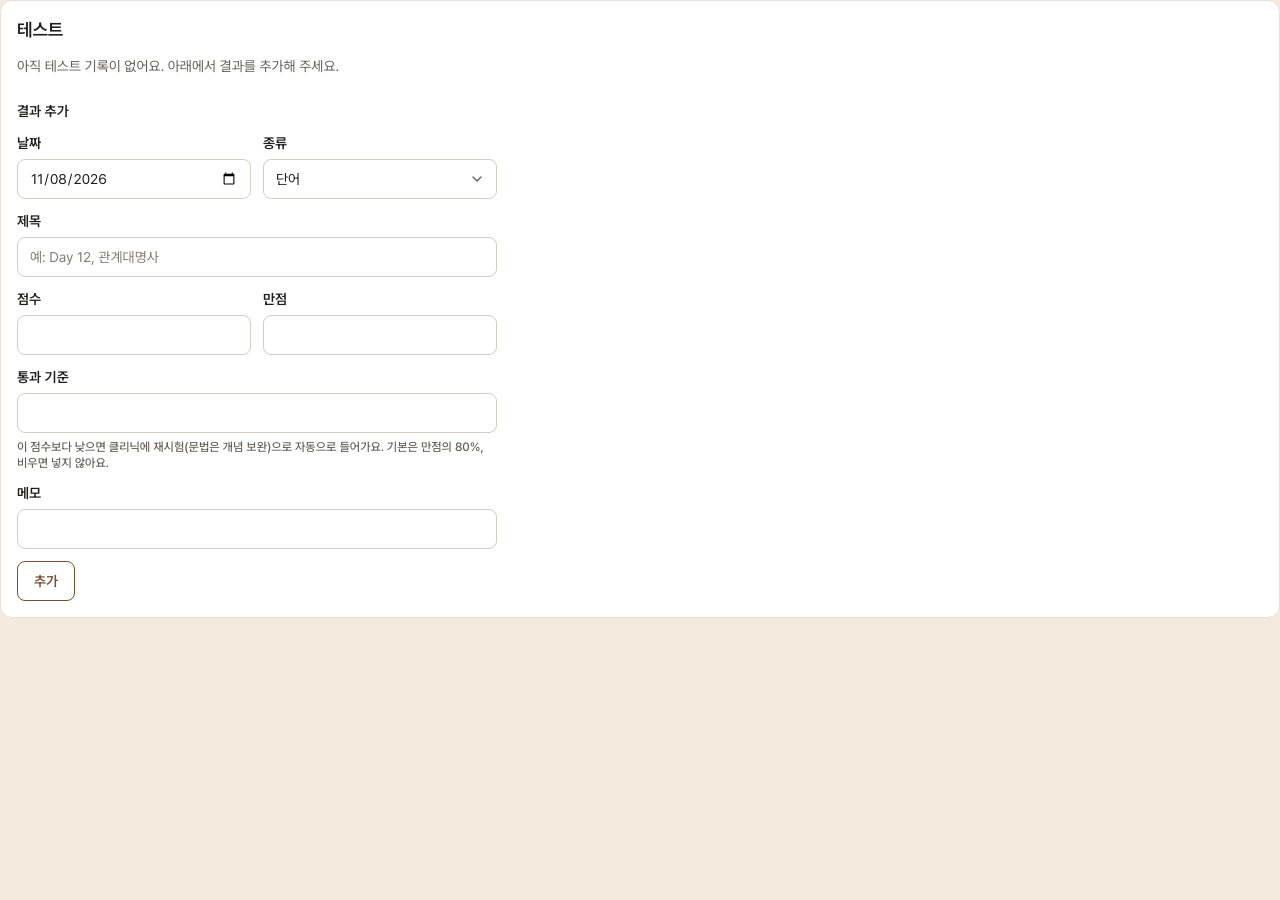
Test case: StudentTestsTab › fills 80% as the pass score until it is changed by hand
Step 1. Type "25" into the field labelled "만점" → (380, 335), box [263, 315, 497, 355]
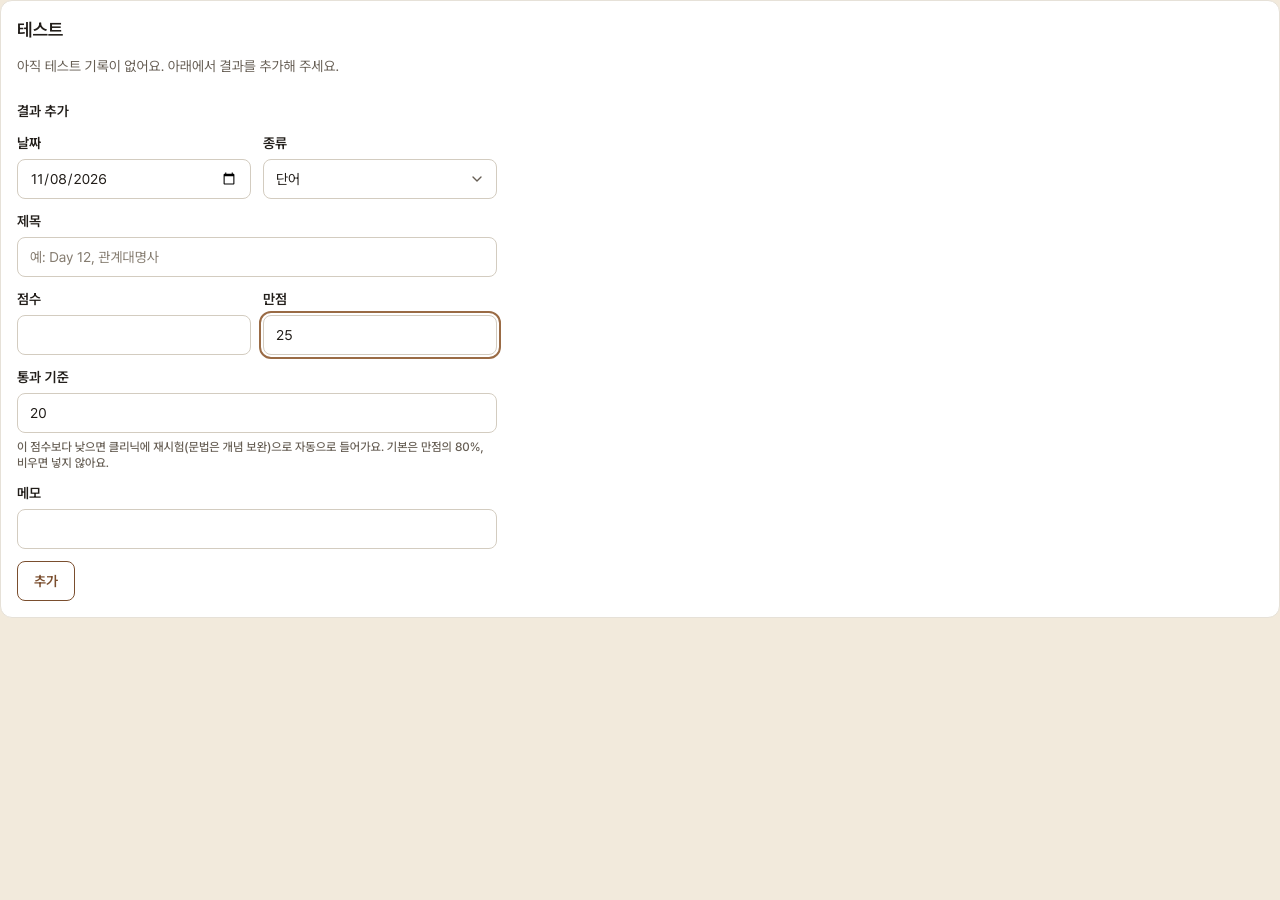
Expected: the field labelled "통과 기준" holds "20"
Step 2. Clear the field labelled "통과 기준" → (257, 413), box [17, 393, 497, 433]
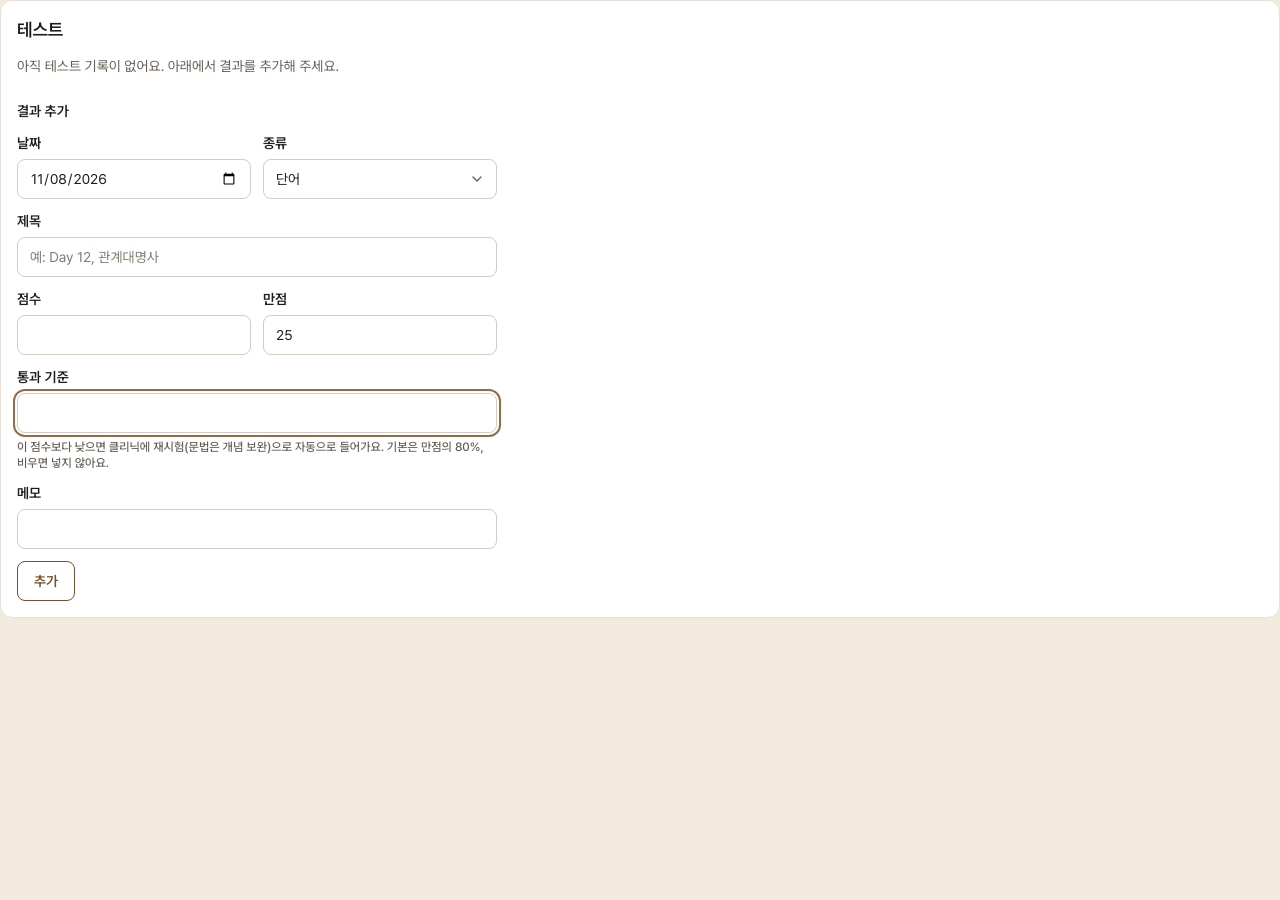
Step 3. Type "0" into the field labelled "만점" → (380, 335), box [263, 315, 497, 355]
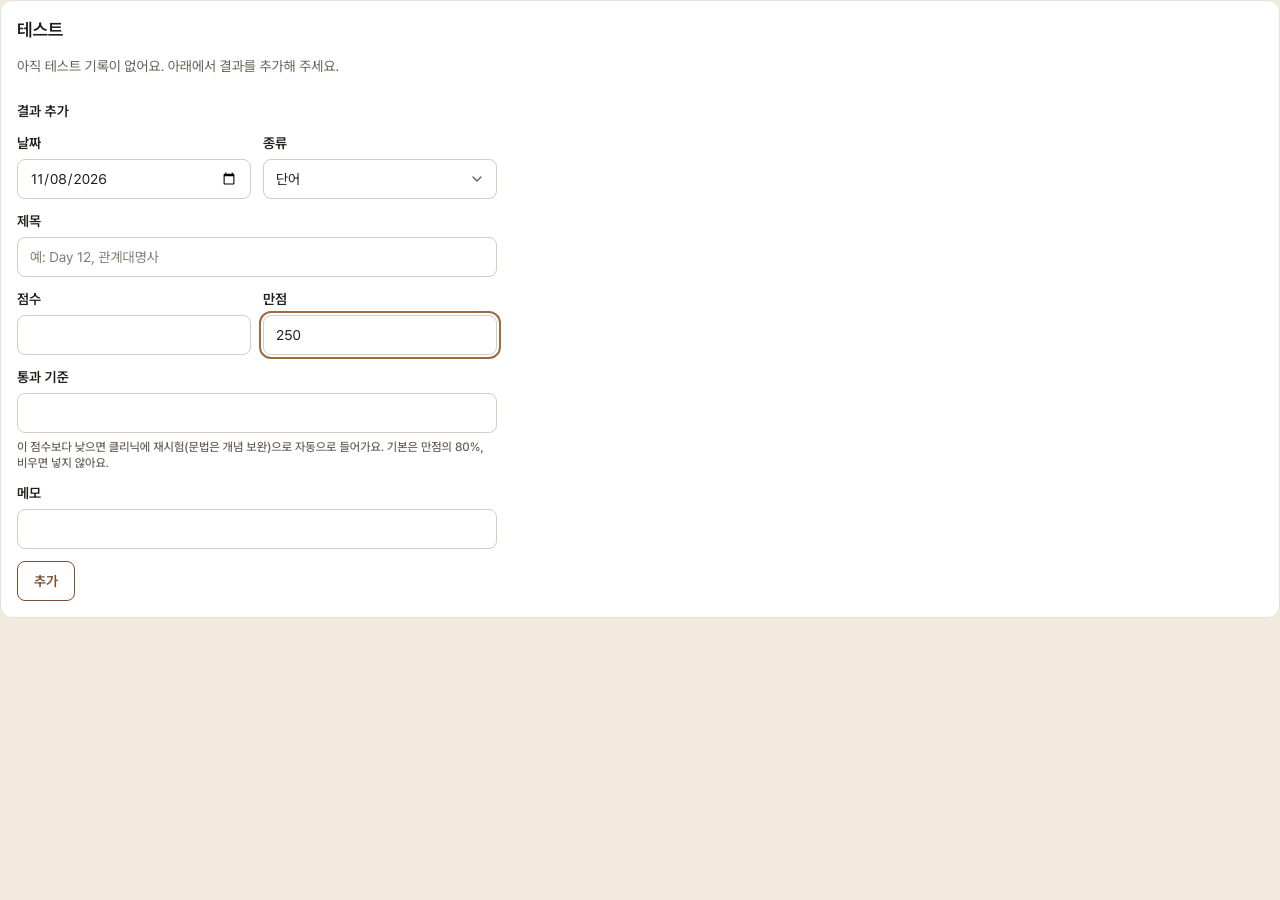
Step 4. Type "Day 1" into the field labelled "제목" → (257, 257), box [17, 237, 497, 277]
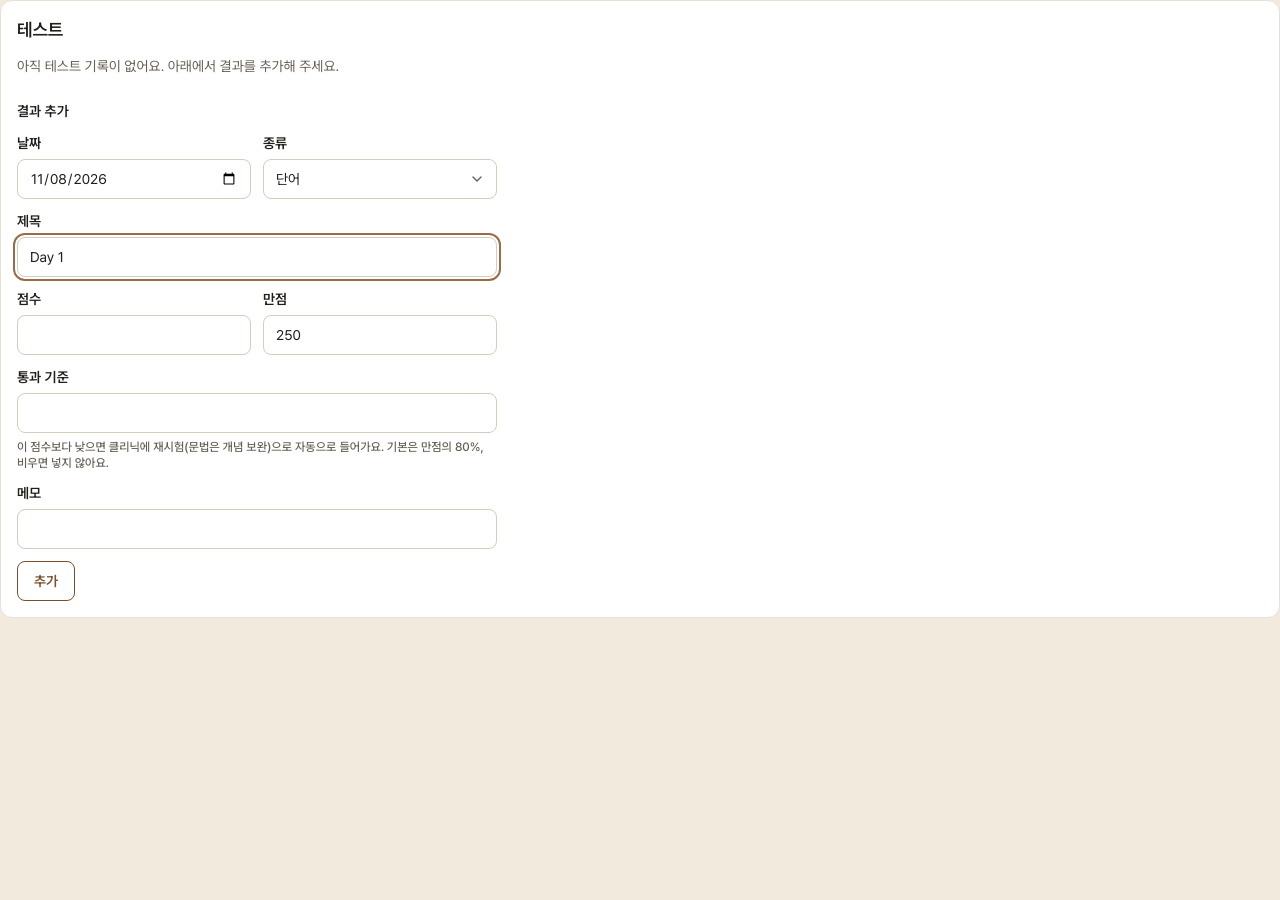
Step 5. Type "3" into the field labelled "점수" → (134, 335), box [17, 315, 251, 355]
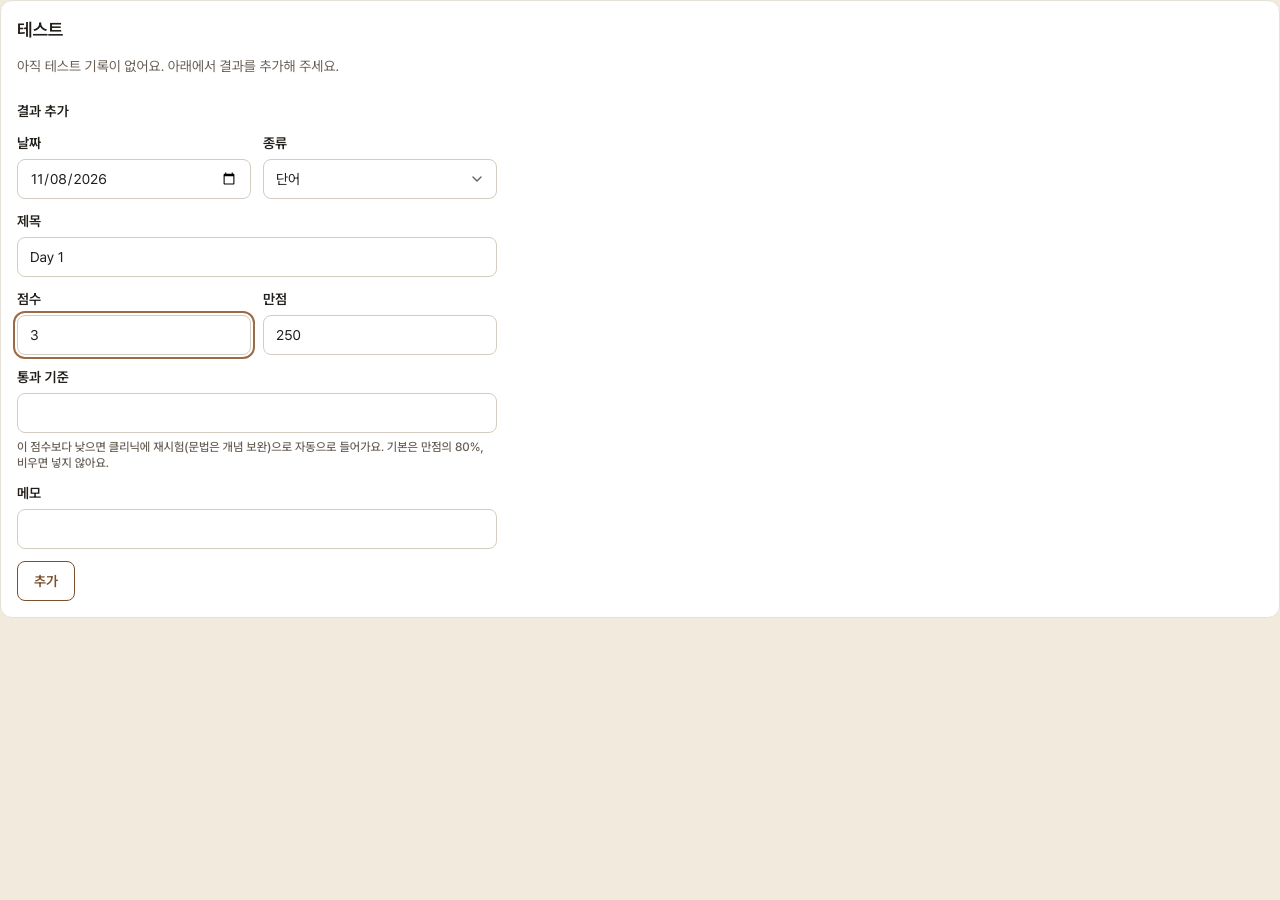
Step 6. Click the button "추가" → (46, 581), box [17, 561, 75, 601]
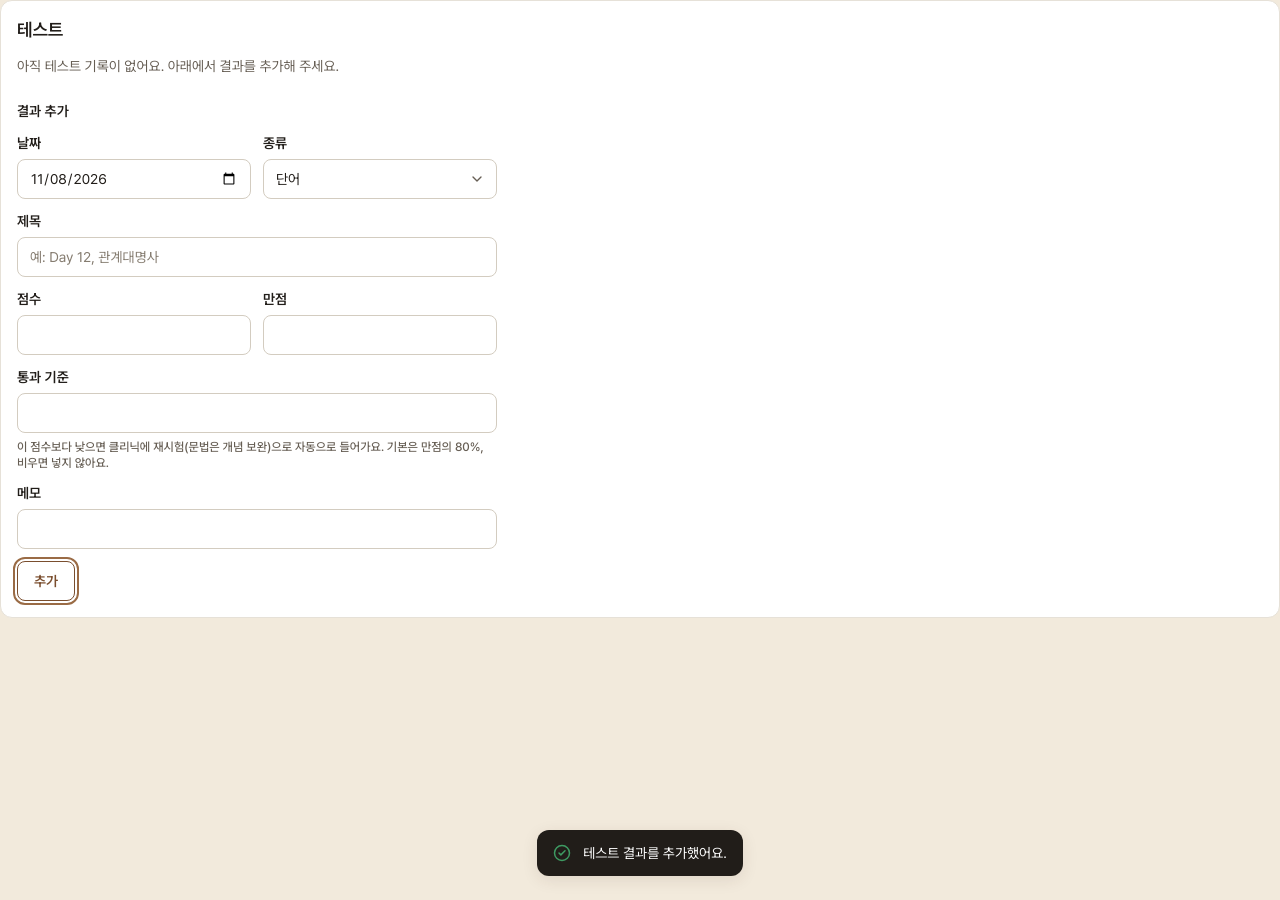
Expected: the text "테스트 결과를 추가했어요." is shown, [583, 842, 727, 864]
